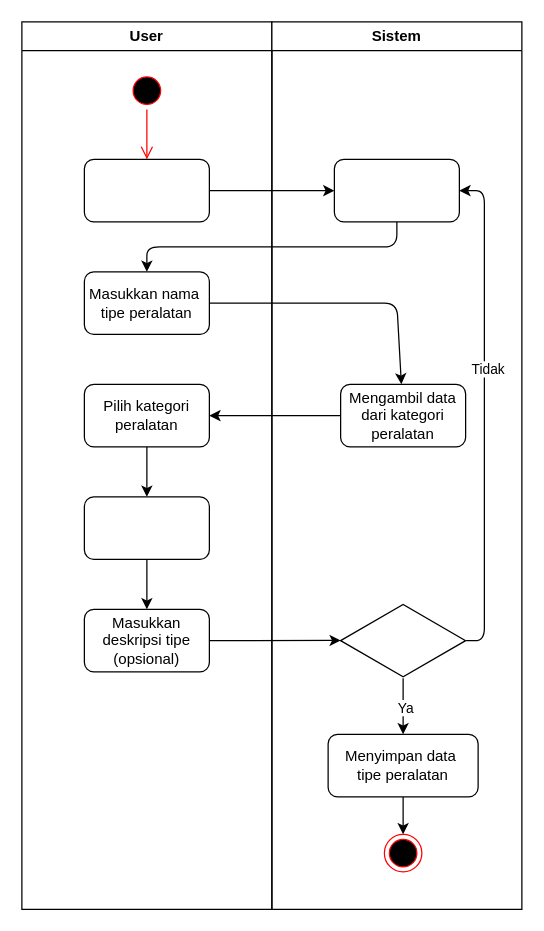
The diagram is 544 pixels wide and 931 high, and some of its shapes have lost their labels. The centre of each missing label's shape, as x and y in pixels:
Menampilkan halaman tipe peralatan: (x=396, y=190)
Pilih fitur tipe peralatan: (x=146, y=190)
Pilih status: (x=146, y=527)
Validasi data: (x=402, y=640)
